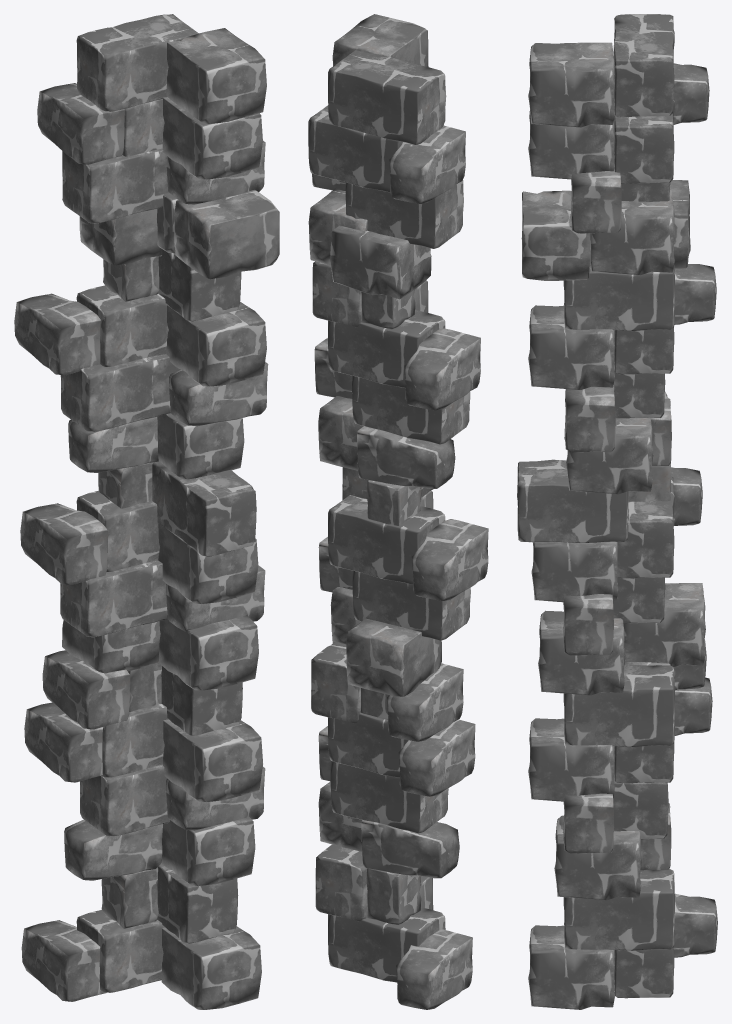
File: Stone_Edge_Innen.fbx
3 renders of one model, left to right at view 1: azimuth 30°, elevation 25°; view 2: azimuth 150°, elevation 25°; view 3: azimuth 270°, elevation 25°, orthographic. The views are drawn at different scales.
Visible parts, largest first — view 1: Stone_Edge_Innen; view 2: Stone_Edge_Innen; view 3: Stone_Edge_Innen.
Part boxes in pixels (box(x1,y1,x2,y2)): Stone_Edge_Innen: box(14, 14, 279, 1009); Stone_Edge_Innen: box(308, 14, 488, 1009); Stone_Edge_Innen: box(517, 14, 717, 1009).
Bounding box in the file's own units: 1.02 × 5.04 × 0.971.
